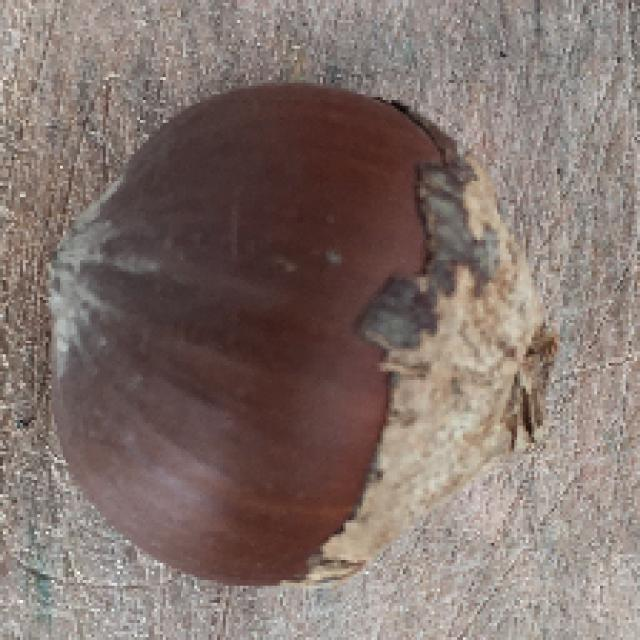damagedHazelnut: (50, 79, 562, 606)
